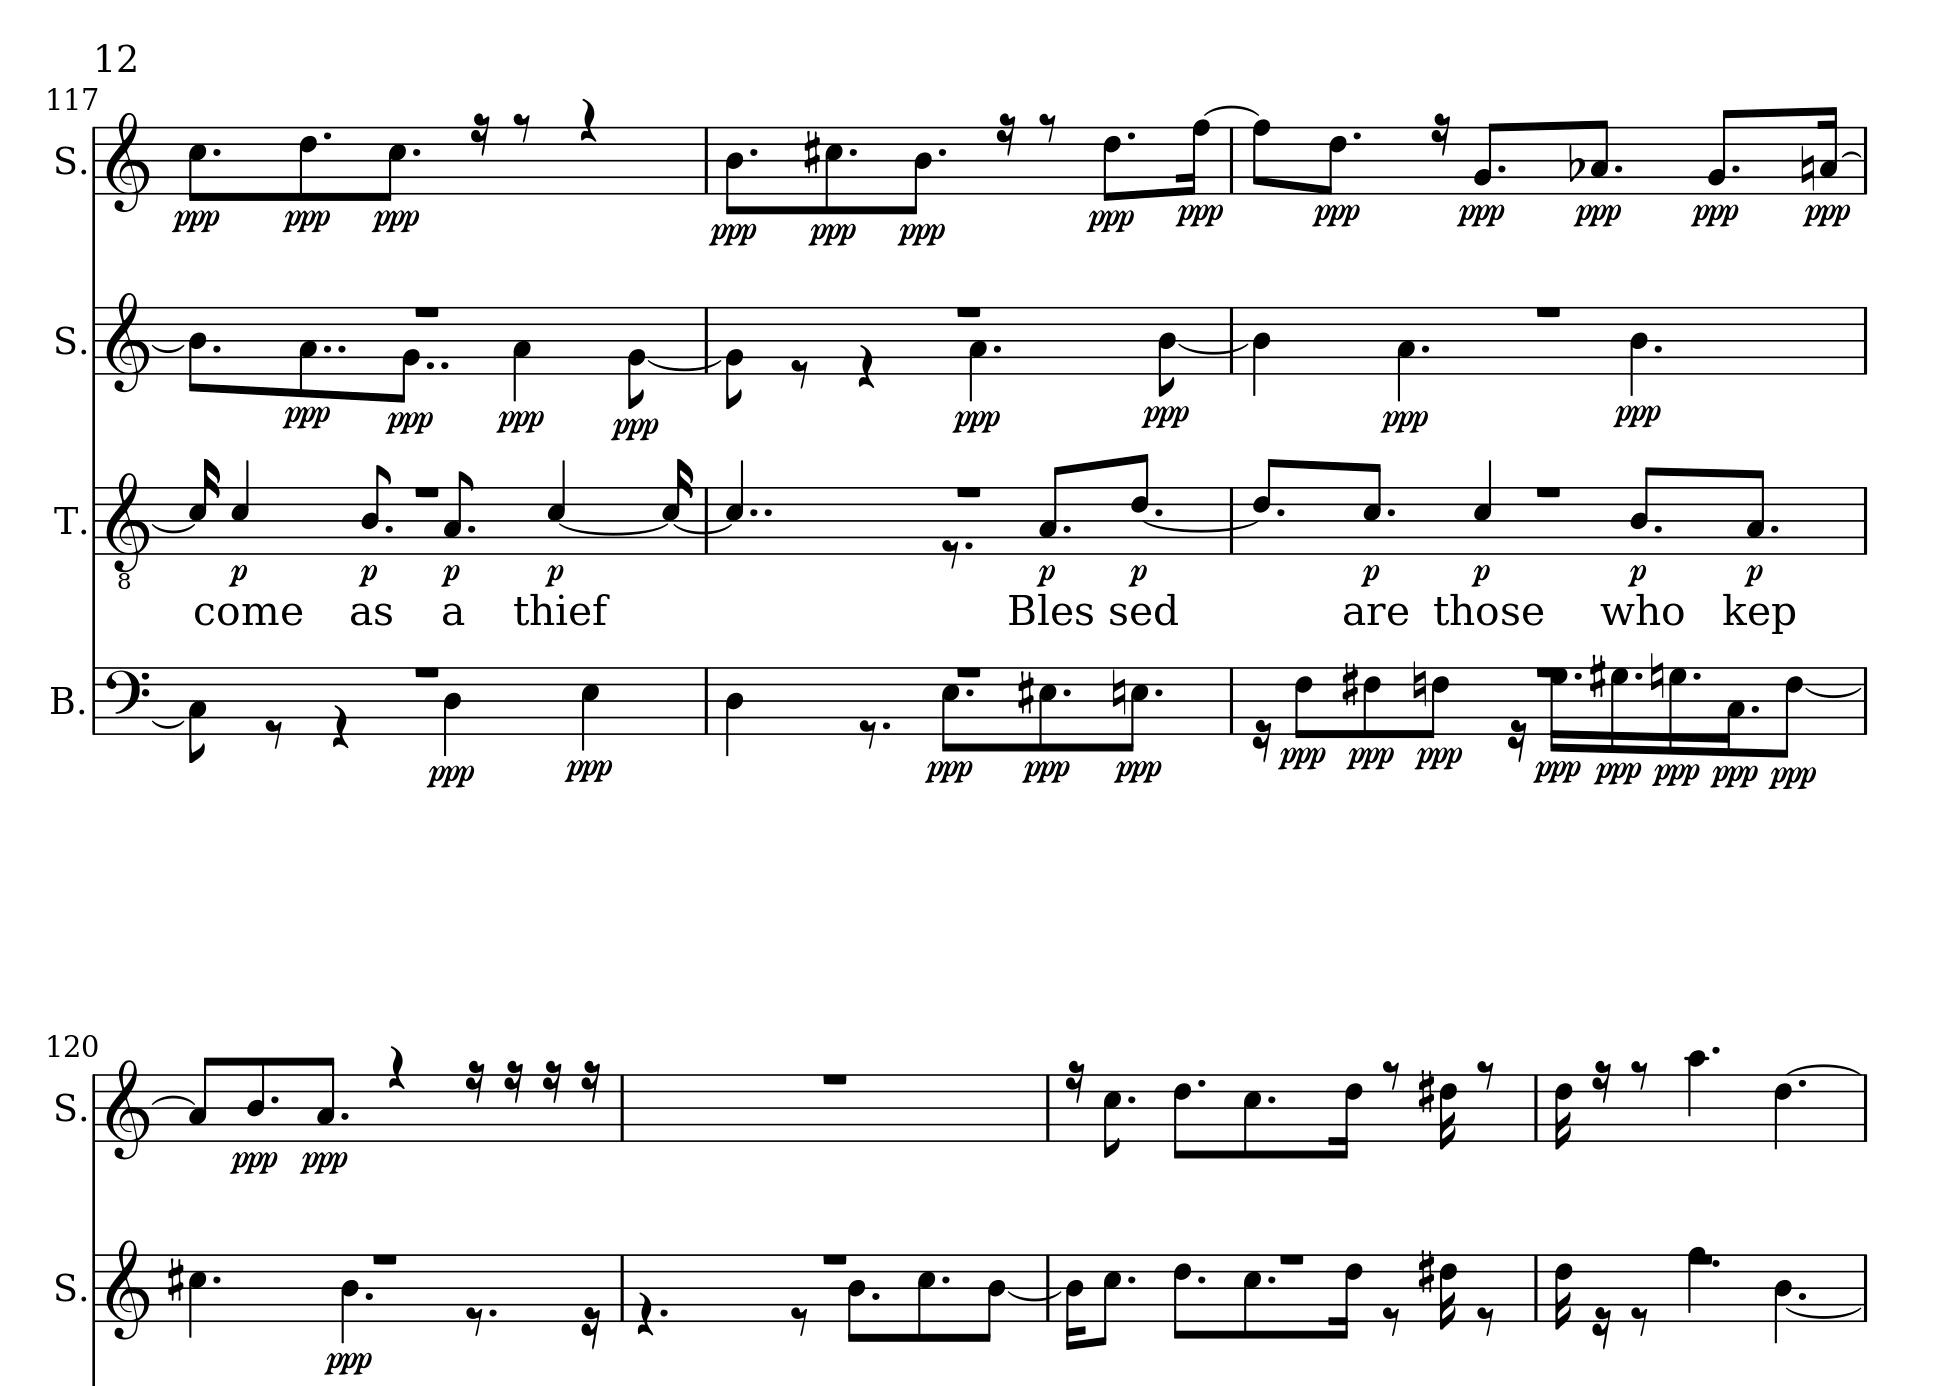0: (81, 1030, 97, 1059)
1: (94, 40, 112, 73), (46, 84, 61, 114), (64, 84, 79, 114), (46, 1032, 61, 1059)
16_3: (1714, 664, 1749, 757), (1816, 100, 1840, 192)
16_4: (1063, 1252, 1084, 1351)
16_5: (660, 454, 694, 555), (187, 454, 220, 553)
16_6: (1329, 1071, 1363, 1159), (1329, 1251, 1363, 1339), (1551, 1251, 1573, 1330), (1552, 1069, 1573, 1150), (1437, 1071, 1458, 1150), (1437, 1252, 1458, 1330)
16_7: (1665, 663, 1692, 757), (1606, 664, 1632, 754)
16_8: (1176, 118, 1212, 196)
2: (115, 40, 136, 73), (61, 1032, 79, 1059)
4_10: (1683, 1047, 1711, 1143)
4_3: (510, 303, 532, 399), (1395, 304, 1417, 400), (967, 303, 987, 403)
4_4: (1770, 1249, 1794, 1344), (721, 664, 745, 757), (1627, 303, 1650, 397), (1251, 304, 1273, 397), (441, 661, 463, 754)
4_5: (723, 454, 747, 556), (544, 454, 568, 555), (229, 454, 252, 556), (1471, 456, 1494, 556), (186, 1249, 208, 1339), (579, 663, 601, 751)
4_6: (1770, 1071, 1794, 1150)
4_8: (1686, 1243, 1713, 1324)
7: (81, 84, 99, 114)
8_2: (384, 304, 418, 403), (1707, 105, 1737, 193), (721, 303, 744, 411), (624, 304, 646, 406), (1473, 120, 1503, 193)
8_3: (442, 466, 475, 553), (1038, 460, 1068, 553), (187, 1054, 217, 1141), (295, 301, 319, 396), (184, 664, 207, 763), (1743, 465, 1767, 555), (313, 1053, 336, 1141), (1590, 115, 1611, 192)
8_4: (355, 462, 391, 555), (898, 124, 933, 214), (1627, 463, 1659, 555), (976, 1252, 1006, 1342), (721, 123, 747, 214), (1155, 303, 1179, 396), (184, 303, 208, 394), (337, 1249, 360, 1342), (244, 1054, 267, 1143), (846, 1252, 867, 1342)
8_5: (1095, 1252, 1122, 1347), (375, 123, 406, 201), (1122, 664, 1149, 753), (1362, 459, 1384, 555), (822, 123, 844, 214), (939, 664, 961, 751), (1036, 664, 1059, 751), (915, 1252, 936, 1345), (1242, 1072, 1263, 1161), (1101, 1071, 1122, 1158), (1242, 1252, 1263, 1339), (187, 123, 208, 199)
8_6: (1770, 663, 1806, 760), (1251, 454, 1282, 556), (1128, 448, 1152, 555), (1317, 124, 1347, 196), (1423, 664, 1452, 739), (1171, 1251, 1192, 1341), (1101, 123, 1123, 201), (1173, 1071, 1192, 1161), (1293, 664, 1315, 739), (297, 124, 318, 201), (1362, 664, 1383, 739)
8_8: (1251, 117, 1272, 196)
Double_dot: (424, 357, 451, 373), (321, 340, 346, 355), (747, 505, 772, 519)
Fclef: (103, 663, 150, 735)
Flat: (1566, 141, 1584, 183)
Gclef: (105, 1057, 151, 1162), (105, 1237, 151, 1342), (105, 111, 148, 211), (106, 289, 148, 393)
Lower_Gclef: (105, 469, 151, 589)
Natural: (1797, 141, 1818, 193), (1647, 648, 1666, 699), (1110, 664, 1126, 715), (1410, 658, 1426, 705)
Rests1: (367, 1246, 402, 1267), (817, 1246, 850, 1267), (411, 300, 445, 319), (1533, 481, 1567, 501), (411, 481, 442, 502), (954, 658, 985, 679), (952, 300, 985, 319), (409, 660, 442, 679), (817, 1068, 850, 1087), (952, 481, 987, 499), (1531, 301, 1564, 319), (1278, 1248, 1308, 1267)
Rests16: (577, 1303, 603, 1351), (1428, 111, 1453, 157), (1590, 1059, 1614, 1105), (994, 111, 1017, 157), (1506, 715, 1528, 762), (1251, 717, 1273, 762), (1591, 1303, 1614, 1348), (465, 1057, 486, 1102), (580, 1059, 601, 1104), (469, 111, 490, 154), (541, 1059, 562, 1102), (1065, 1059, 1086, 1102), (504, 1059, 523, 1104)
Rests4: (853, 342, 876, 391), (633, 1288, 654, 1338), (385, 1042, 406, 1090), (328, 703, 349, 750), (577, 96, 597, 144)
Rests8: (937, 535, 964, 568), (787, 355, 813, 390), (261, 715, 286, 748), (462, 1303, 487, 1336), (1036, 108, 1059, 144), (787, 1303, 813, 1335), (511, 108, 534, 142), (1380, 1056, 1402, 1090), (856, 715, 879, 748), (1476, 1056, 1497, 1090), (1629, 1057, 1650, 1092), (1380, 1303, 1402, 1335), (1476, 1302, 1497, 1333), (1629, 1303, 1650, 1335)
Sharp: (163, 1252, 186, 1305), (1014, 666, 1035, 717), (799, 127, 820, 177), (1587, 651, 1608, 700), (1416, 1066, 1435, 1114), (1339, 660, 1359, 706), (1417, 1246, 1435, 1294)
Single_barline: (1854, 486, 1876, 553), (1857, 1072, 1878, 1141), (1855, 306, 1875, 373), (1222, 306, 1242, 372), (1222, 487, 1242, 553), (1857, 666, 1875, 735), (1857, 1252, 1875, 1321), (697, 666, 715, 733), (697, 127, 715, 193), (697, 487, 715, 553), (1222, 667, 1240, 733), (1527, 1254, 1545, 1320), (697, 306, 715, 370), (1857, 126, 1873, 195), (85, 666, 102, 735), (87, 1072, 103, 1141), (87, 126, 103, 193), (87, 307, 103, 375), (87, 487, 103, 555), (1224, 127, 1240, 193), (1041, 1252, 1057, 1318), (613, 1254, 630, 1320), (613, 1075, 630, 1140), (1039, 1075, 1056, 1138), (1528, 1075, 1545, 1138), (87, 1252, 102, 1321)
Slur: (558, 520, 670, 534), (1143, 520, 1257, 532), (1176, 342, 1251, 355), (643, 358, 724, 370), (1782, 1062, 1863, 1074), (1783, 1306, 1861, 1318), (1203, 103, 1260, 117), (672, 522, 733, 534), (1804, 685, 1863, 697), (1006, 1288, 1062, 1300), (151, 520, 196, 534), (148, 718, 187, 730), (151, 1095, 195, 1105), (148, 343, 187, 354)
dot: (745, 142, 760, 159), (990, 340, 1005, 355), (1152, 684, 1167, 699), (1419, 340, 1432, 355), (465, 520, 478, 535), (1795, 1075, 1809, 1090), (1264, 1092, 1279, 1105), (1194, 1272, 1209, 1285), (361, 1288, 375, 1303), (1123, 1273, 1140, 1285), (1125, 1092, 1138, 1105), (210, 1272, 223, 1285), (1795, 1288, 1809, 1302), (321, 127, 333, 142), (1125, 127, 1137, 142), (1351, 127, 1363, 142), (847, 144, 859, 159), (1495, 160, 1507, 175), (1612, 160, 1624, 175), (210, 340, 222, 355), (1653, 340, 1665, 355), (382, 520, 394, 535), (963, 538, 975, 553), (963, 685, 975, 700), (1194, 1075, 1209, 1087), (937, 1273, 952, 1285), (409, 145, 421, 159), (936, 145, 949, 157), (1386, 505, 1398, 519), (1768, 522, 1780, 535), (1572, 669, 1584, 682), (1062, 685, 1074, 699), (880, 718, 892, 732), (1710, 1044, 1722, 1057), (268, 1092, 280, 1105), (1710, 1255, 1722, 1269), (1264, 1273, 1278, 1285), (868, 1288, 882, 1300), (1731, 160, 1741, 175), (1653, 520, 1663, 535), (210, 145, 222, 157), (486, 1306, 498, 1318), (657, 1306, 669, 1318), (1062, 522, 1072, 535), (1692, 669, 1702, 682), (339, 1108, 349, 1122), (1155, 505, 1165, 517), (1633, 669, 1644, 681), (1750, 703, 1761, 714)
p: (355, 562, 379, 588), (1624, 561, 1648, 586), (1741, 561, 1765, 586), (226, 562, 249, 589), (541, 562, 565, 586), (1468, 561, 1491, 586), (1126, 561, 1147, 586), (439, 562, 460, 586), (1035, 562, 1056, 586), (1359, 562, 1380, 586)
ppp: (1686, 199, 1741, 234), (319, 1345, 375, 1380), (892, 217, 948, 250), (1570, 199, 1626, 232), (1767, 760, 1819, 795), (277, 402, 334, 433), (421, 760, 478, 792), (607, 412, 661, 445), (703, 217, 759, 249), (1800, 199, 1852, 232), (382, 405, 436, 436), (492, 405, 546, 436), (949, 405, 1003, 436), (559, 754, 613, 786), (1173, 199, 1225, 231), (921, 754, 973, 786), (367, 205, 421, 235), (1081, 205, 1135, 235), (1309, 199, 1363, 229), (1137, 400, 1191, 430), (1344, 742, 1398, 772), (805, 219, 858, 249), (1111, 754, 1164, 784), (1413, 742, 1465, 772), (226, 1147, 279, 1177), (277, 205, 331, 234), (1453, 201, 1507, 229), (1530, 756, 1584, 784), (1377, 405, 1428, 435), (1276, 742, 1327, 772), (1593, 757, 1644, 787), (1651, 757, 1702, 787), (1710, 760, 1761, 790), (298, 1147, 349, 1177), (169, 205, 222, 234), (1611, 399, 1660, 429), (1021, 756, 1071, 784)
